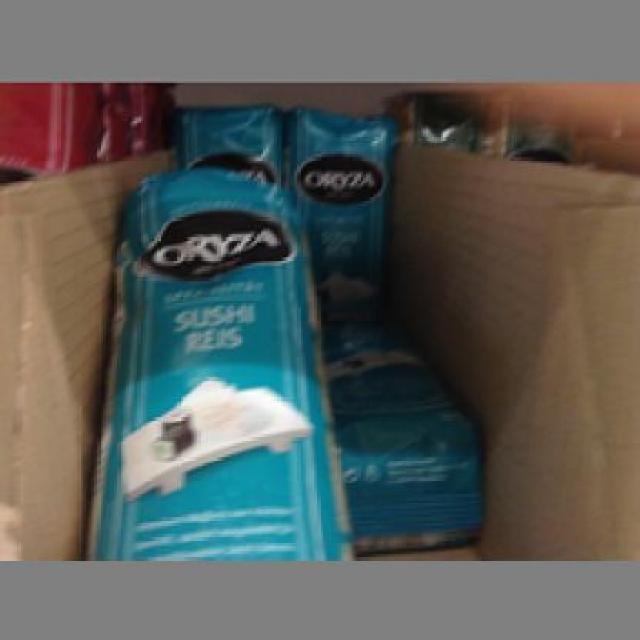Rice: (80, 162, 349, 558), (314, 308, 483, 548), (282, 102, 395, 312)
